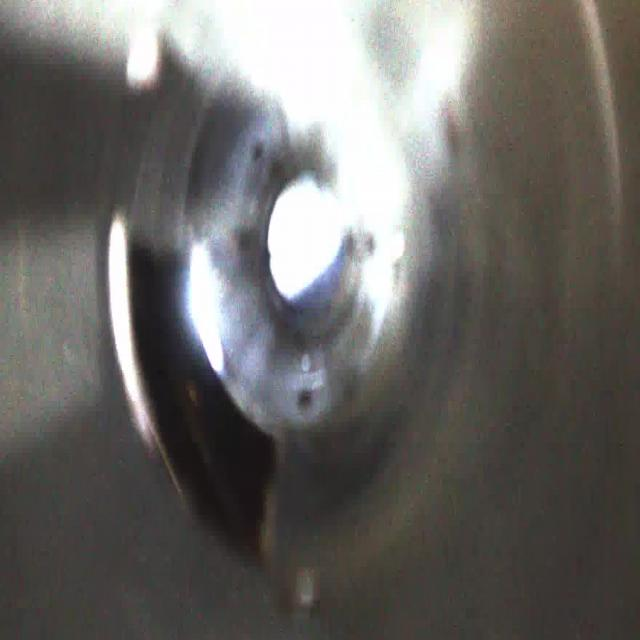hole: (99, 202, 283, 578)
